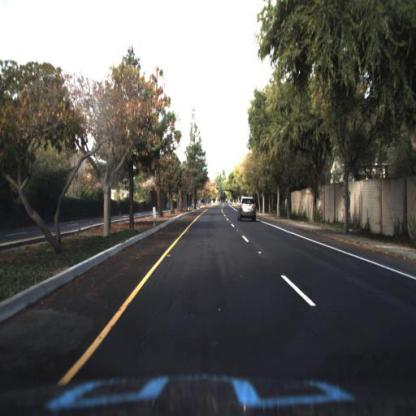car: (238, 195, 258, 224)
